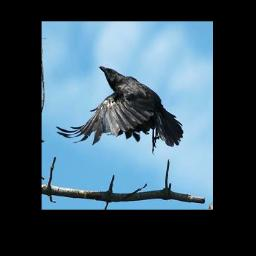Crow: (53, 64, 182, 156)
